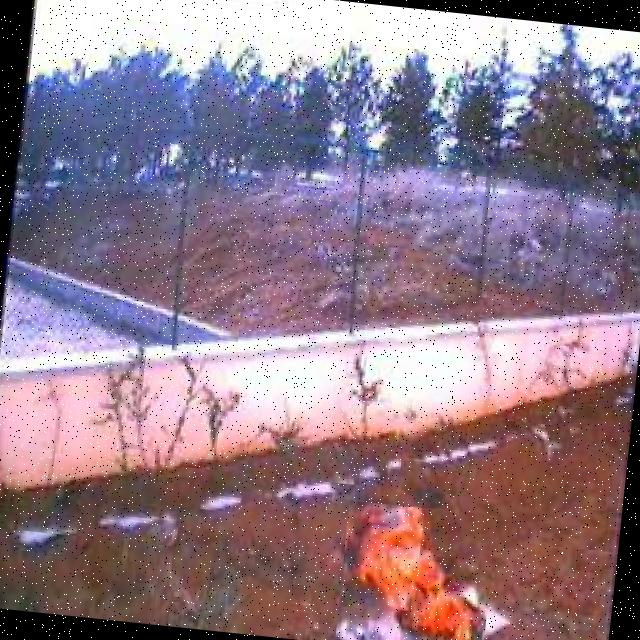fire: (334, 500, 496, 640)
